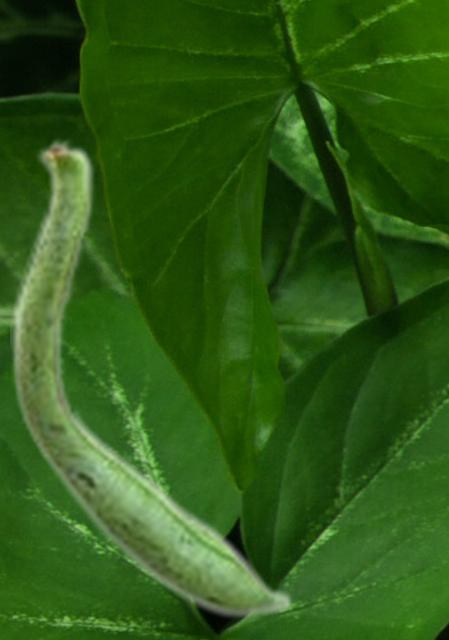french_bean: (10, 135, 293, 619)
